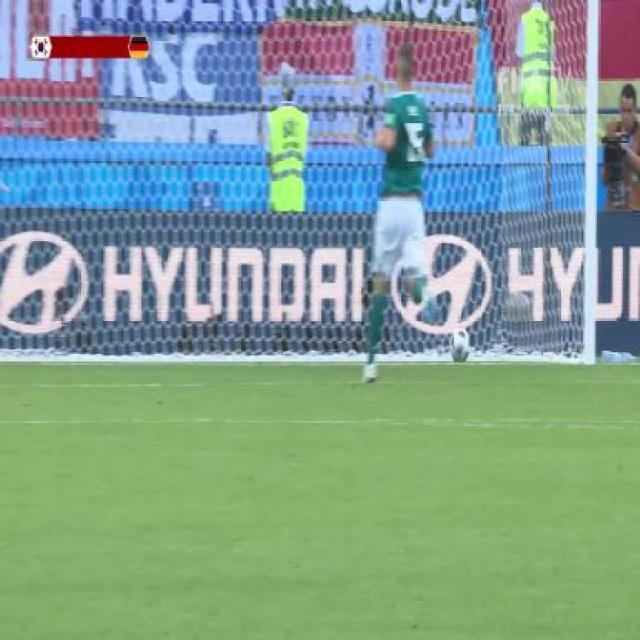ball: (449, 321, 472, 364)
player: (362, 42, 444, 387)
